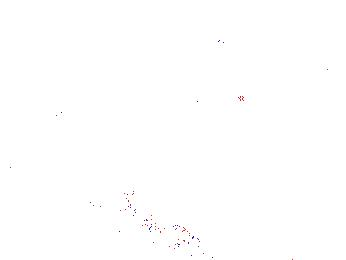redtail glassfish: (205, 33, 257, 74)
siberian prawn: (121, 200, 213, 259)
